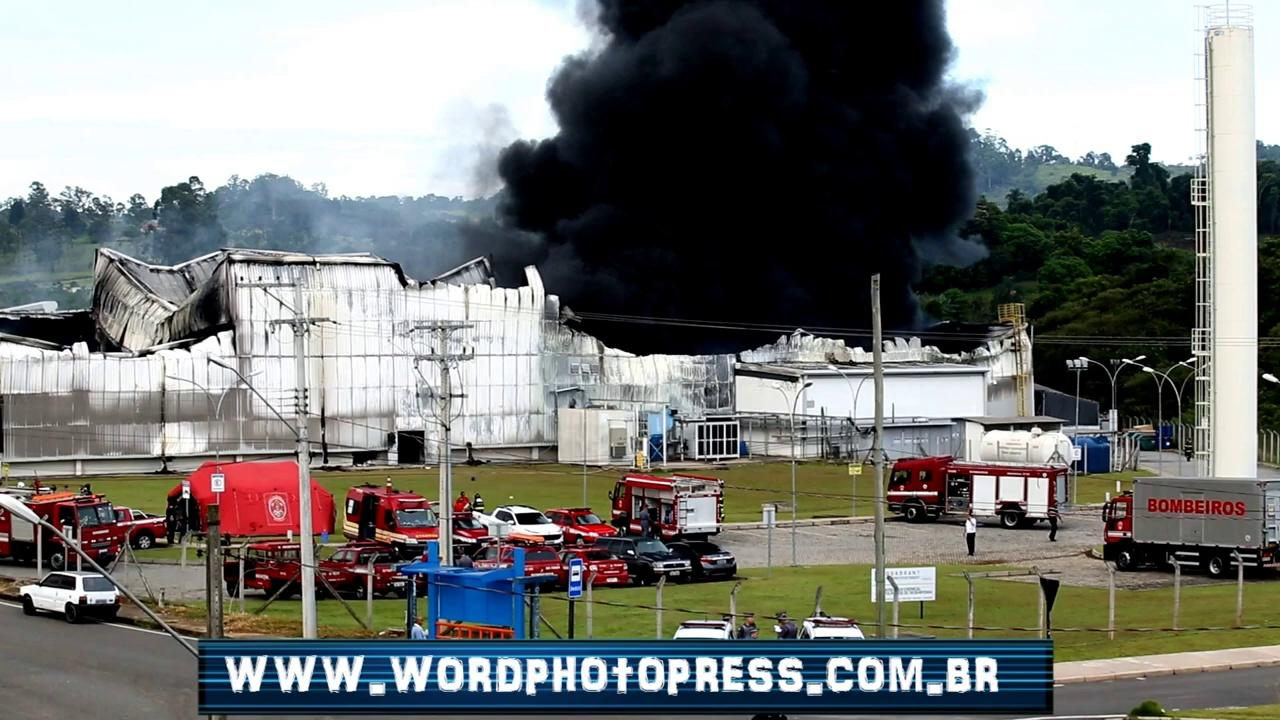smoke: (594, 8, 916, 252)
